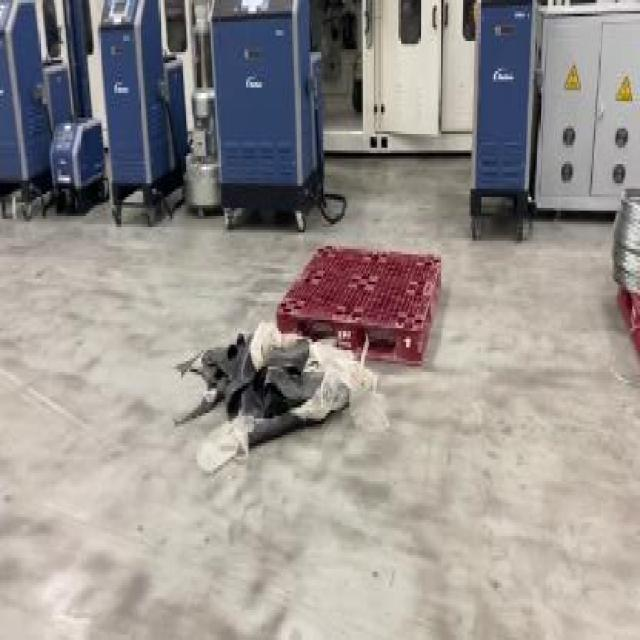box: (281, 238, 437, 369), (597, 200, 638, 391)
